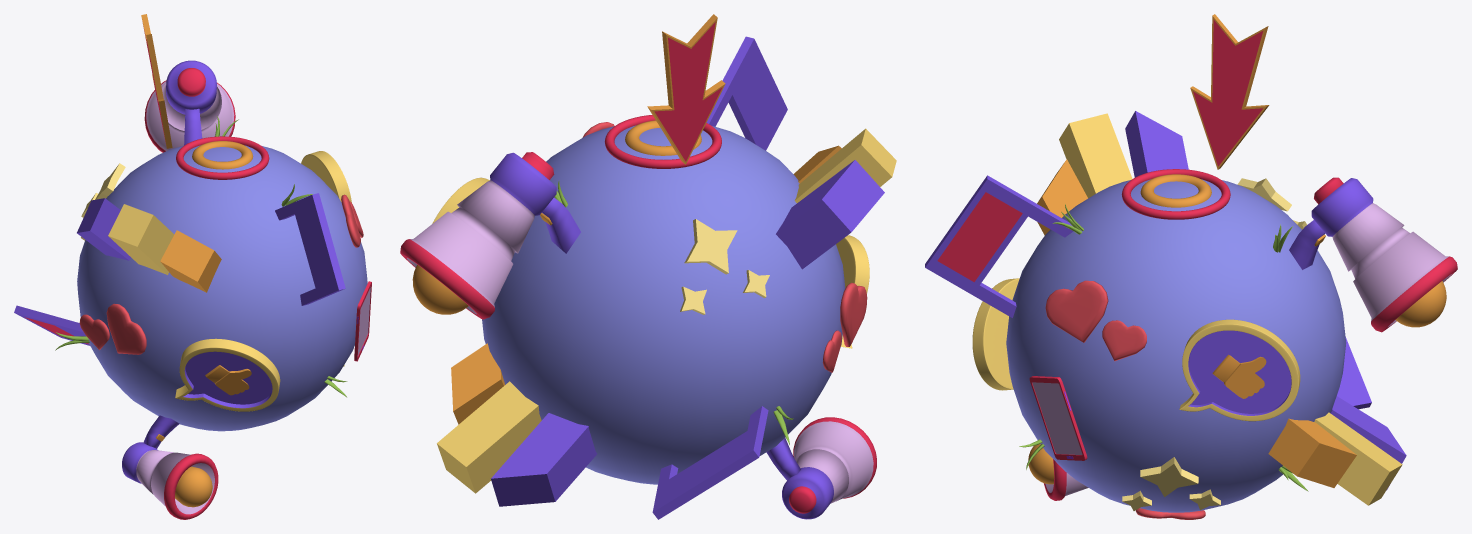
Rendered from Marketing_Planet.fbx.
3 views of the same model, side by side, from view 1: azimuth 30°, elevation 25°; view 2: azimuth 150°, elevation 25°; view 3: azimuth 270°, elevation 25° (orthographic). The views are drawn at different scales.
Parts seen in each view (by area): view 1: Sphere, Bubble.001, Megaphone, Megaphone.001, Panel, Balken, Cube.006, Cube.007, Torus.002, Heart.001, Sphere.002, Bubble (+10 smaller); view 2: Sphere, Megaphone, Megaphone.001, Cube.013, Balken.001, Cube.007, Arrow, Panel, Panel.001, Balken, Cube.012, Torus.002 (+9 smaller); view 3: Sphere, Megaphone, Bubble, Panel, Arrow, Balken, Cube.012, Balken.001, Bubble.001, Cube.007, Phone, Heart (+13 smaller).
Boxes of the visible parts, x1,y1,x2,y2 form: Sphere: [77, 145, 367, 431]; Bubble.001: [175, 338, 280, 411]; Megaphone: [144, 60, 235, 152]; Megaphone.001: [122, 442, 218, 519]; Panel: [275, 193, 345, 305]; Balken: [108, 204, 174, 274]; Cube.006: [160, 230, 221, 292]; Cube.007: [77, 198, 130, 260]; Torus.002: [176, 136, 269, 179]; Heart.001: [106, 303, 146, 354]; Sphere.002: [175, 466, 212, 507]; Bubble: [301, 151, 351, 202]; Sphere: [482, 125, 845, 484]; Megaphone: [400, 152, 556, 319]; Megaphone.001: [782, 417, 876, 519]; Cube.013: [491, 413, 596, 506]; Balken.001: [437, 381, 541, 493]; Cube.007: [776, 160, 884, 269]; Arrow: [647, 14, 725, 164]; Panel: [706, 36, 787, 150]; Panel.001: [652, 406, 768, 519]; Balken: [794, 128, 896, 202]; Cube.012: [451, 343, 504, 424]; Torus.002: [604, 115, 721, 168]; Sphere: [1006, 179, 1346, 512]; Megaphone: [1311, 177, 1457, 332]; Bubble: [1179, 319, 1300, 421]; Panel: [925, 175, 1073, 317]; Arrow: [1190, 14, 1269, 169]; Balken: [1059, 113, 1132, 198]; Cube.012: [1268, 418, 1356, 487]; Balken.001: [1314, 412, 1402, 505]; Bubble.001: [972, 278, 1019, 390]; Cube.007: [1125, 111, 1188, 177]; Phone: [1029, 376, 1087, 460]; Heart: [1045, 280, 1108, 342].
Size of the model in its own units: 479 by 494 by 360.
